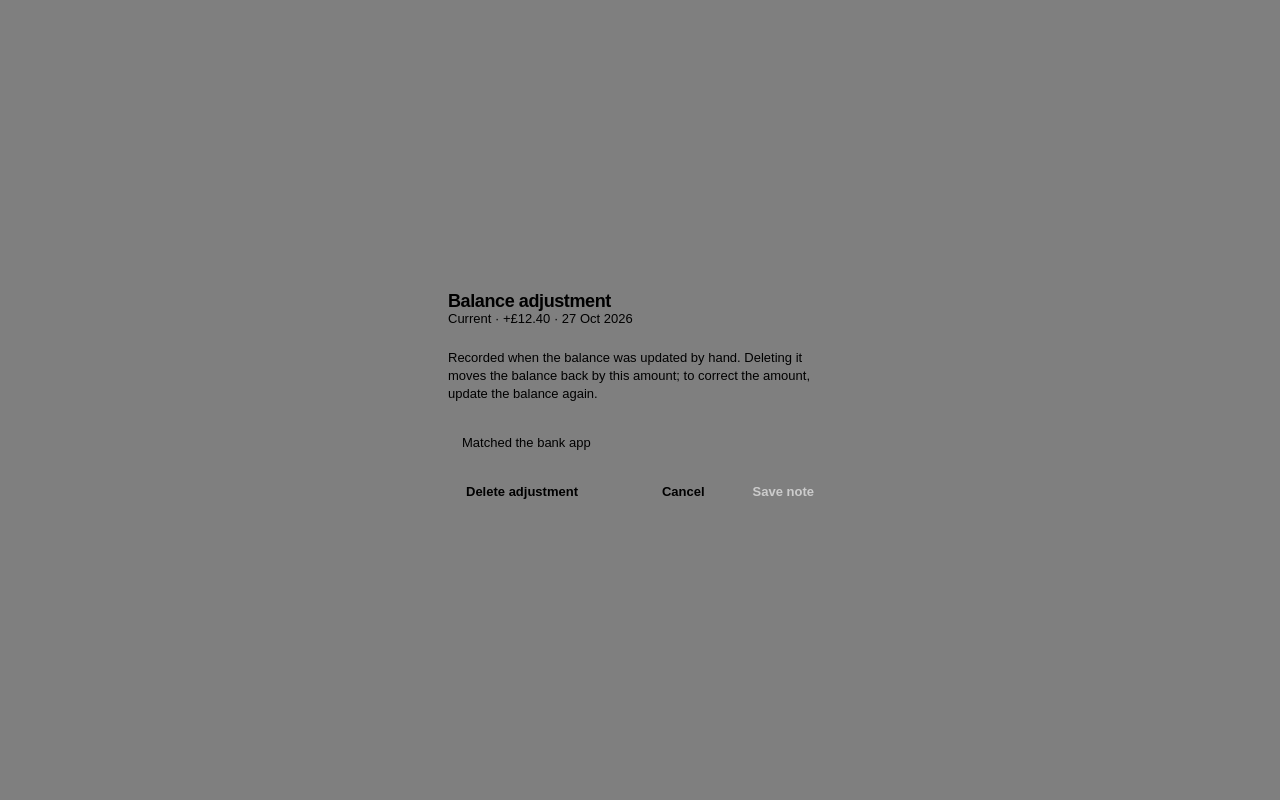
AddModal — Balance adjustment › saves only the note
Expected: the button "Save note" is disabled, [735, 475, 832, 508]
Replace the text in the field named "Note" with "Interest I'd missed". click: (640, 443)
box: [448, 423, 832, 463]
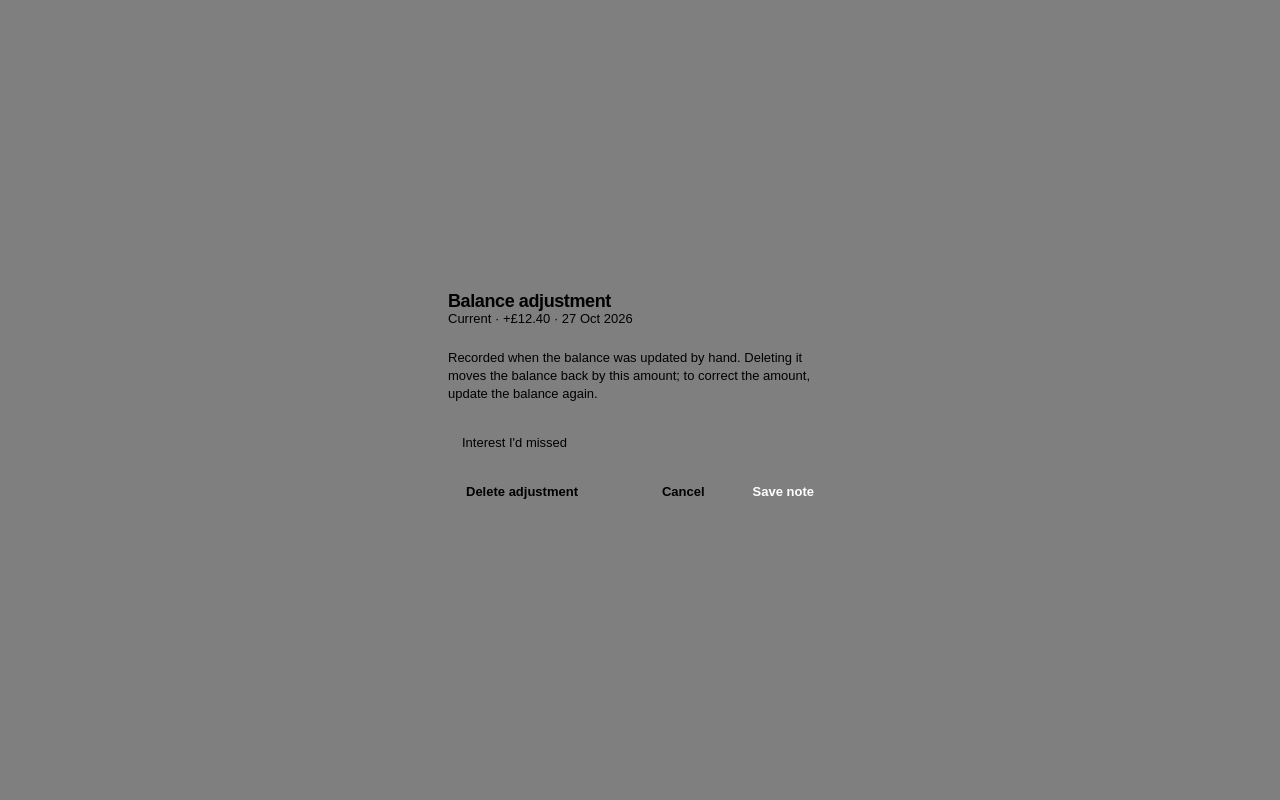
Click the button "Save note". click: click(783, 491)
box: [735, 475, 832, 508]
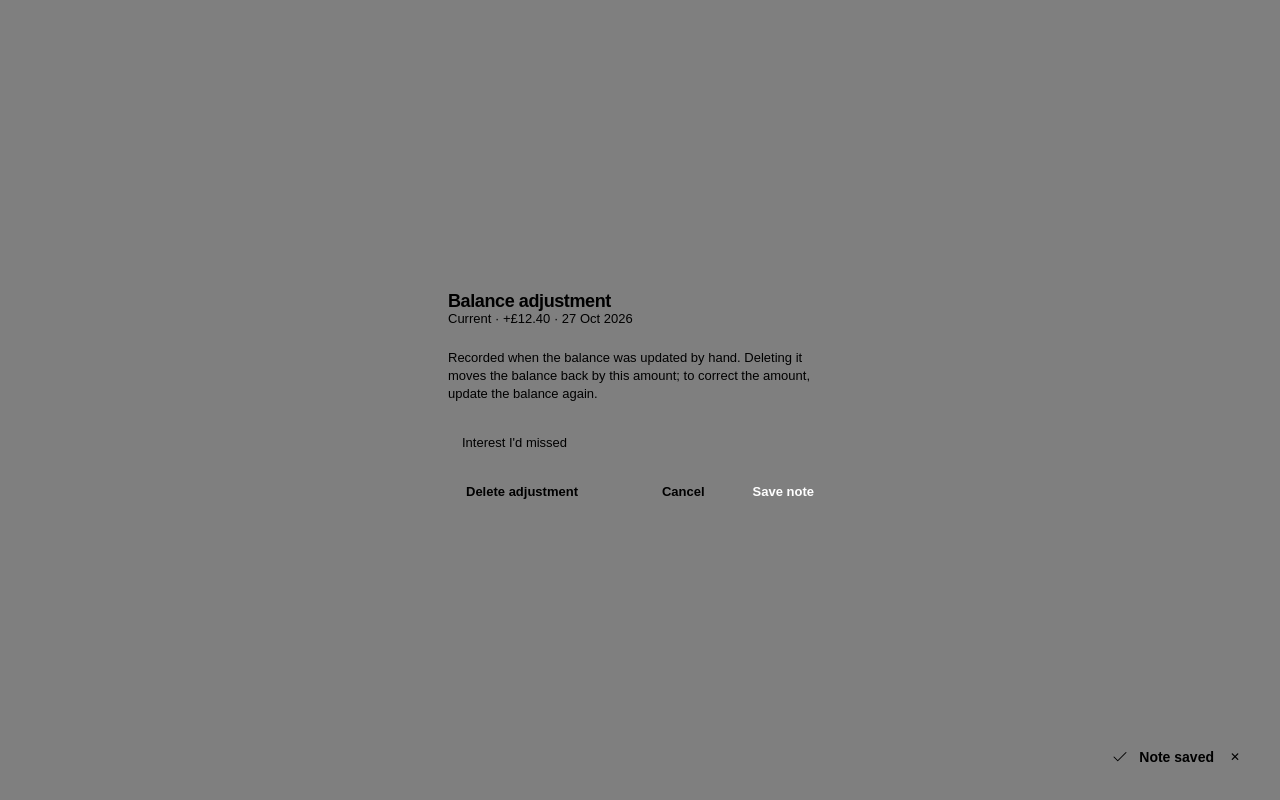
Expected: the text "Note saved" is shown, [1139, 748, 1214, 766]
